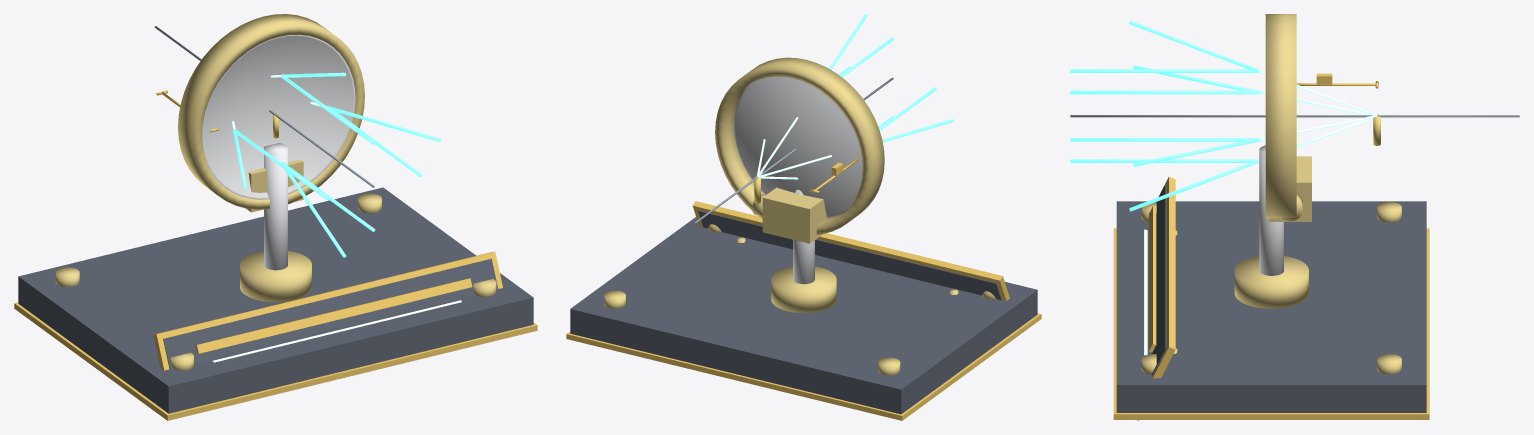
Rendered from convex-mirror.glb.
3 renders of one model, left to right at view 1: azimuth 30°, elevation 25°; view 2: azimuth 150°, elevation 25°; view 3: azimuth 270°, elevation 25°, orthographic. The views are drawn at different scales.
Visible parts, largest first — view 1: m_cvx_full_plinth, m_cvx_full_dish, m_cvx_full_bezel, m_cvx_sec_plaque_face, m_cvx_full_plinth_rim, m_cvx_sec_plaque_trim, m_cvx_full_base_boss, m_cvx_sec_title_bar, m_cvx_full_chrome_post, m_cvx_full_swivel_bracket, m_cvx_sec_sub1, m_cvx_sec_axis; view 2: m_cvx_full_plinth, m_cvx_full_dish, m_cvx_full_bezel, m_cvx_sec_plaque_face, m_cvx_full_plinth_rim, m_cvx_full_swivel_bracket, m_cvx_sec_plaque_trim, m_cvx_full_base_boss, m_cvx_full_chrome_post; view 3: m_cvx_full_plinth, m_cvx_full_bezel, m_cvx_full_plinth_rim, m_cvx_full_base_boss, m_cvx_sec_plaque_trim, m_cvx_full_chrome_post, m_cvx_sec_plaque_face, m_cvx_sec_axis, m_cvx_sec_title_bar, m_cvx_full_swivel_bracket, m_cvx_sec_r_inc_1, m_cvx_sec_r_inc_2 (+9 smaller).
Part boxes in pixels (x1,y1,x2,y2): m_cvx_full_plinth: [18, 187, 533, 413]; m_cvx_full_dish: [202, 34, 355, 199]; m_cvx_full_bezel: [178, 14, 364, 209]; m_cvx_sec_plaque_face: [163, 258, 498, 369]; m_cvx_full_plinth_rim: [14, 302, 537, 420]; m_cvx_sec_plaque_trim: [153, 251, 502, 370]; m_cvx_full_base_boss: [240, 251, 311, 302]; m_cvx_sec_title_bar: [195, 278, 472, 353]; m_cvx_full_chrome_post: [264, 143, 287, 270]; m_cvx_full_swivel_bracket: [246, 159, 303, 212]; m_cvx_sec_sub1: [212, 300, 461, 362]; m_cvx_sec_axis: [154, 26, 374, 187]; m_cvx_full_plinth: [570, 217, 1037, 414]; m_cvx_full_dish: [734, 76, 862, 217]; m_cvx_full_bezel: [715, 57, 884, 234]; m_cvx_sec_plaque_face: [698, 210, 1001, 300]; m_cvx_full_plinth_rim: [566, 313, 1041, 420]; m_cvx_full_swivel_bracket: [762, 187, 827, 243]; m_cvx_sec_plaque_trim: [692, 201, 1009, 300]; m_cvx_full_base_boss: [771, 266, 836, 313]; m_cvx_full_chrome_post: [793, 189, 814, 284]; m_cvx_full_plinth: [1116, 201, 1426, 412]; m_cvx_full_bezel: [1265, 14, 1296, 218]; m_cvx_full_plinth_rim: [1113, 228, 1429, 419]; m_cvx_full_base_boss: [1234, 256, 1308, 308]; m_cvx_sec_plaque_trim: [1137, 176, 1175, 420]; m_cvx_full_chrome_post: [1259, 145, 1283, 275]; m_cvx_sec_plaque_face: [1151, 184, 1166, 375]; m_cvx_sec_axis: [1070, 115, 1519, 117]; m_cvx_sec_title_bar: [1149, 206, 1156, 352]; m_cvx_full_swivel_bracket: [1268, 156, 1311, 221]; m_cvx_sec_r_inc_1: [1070, 90, 1259, 94]; m_cvx_sec_r_inc_2: [1070, 69, 1258, 72].
Size of the model in its own units: 0.142 by 0.1121 by 0.145.
